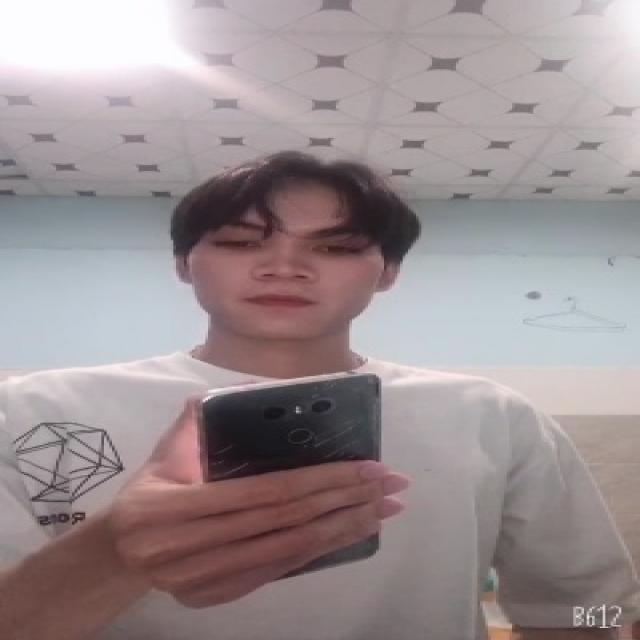Phone: (192, 371, 387, 574)
